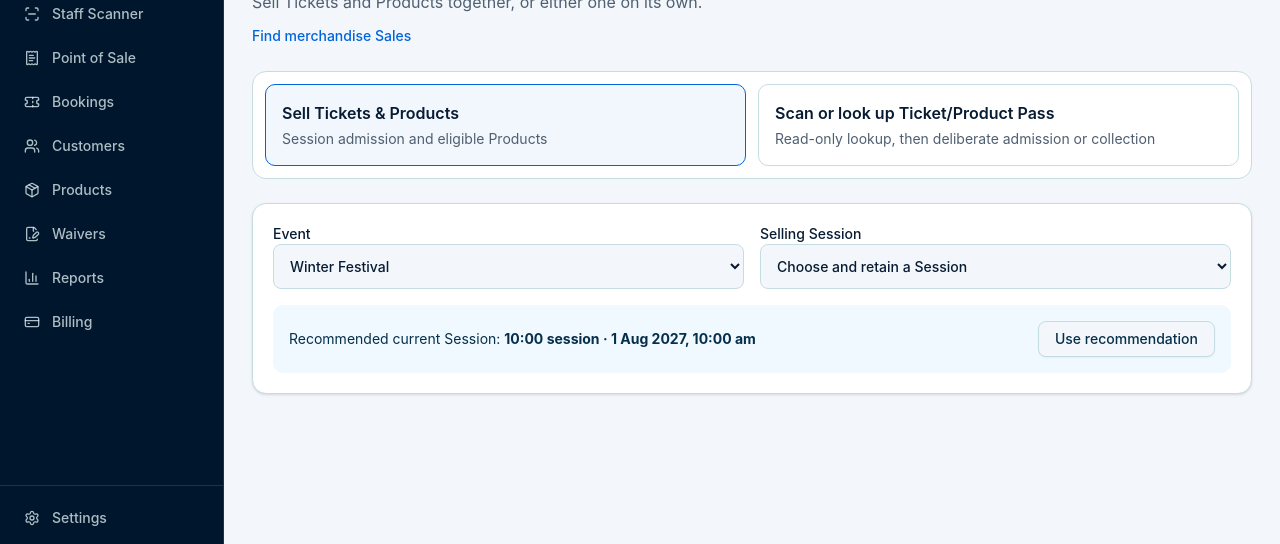
Test case: PosPage › uses a valid configured Ticket Type age instead of a universal age
Click the button "Use recommendation" at [1126, 339], box x1=1038 y1=321 x2=1215 y2=357
(page scrolled)
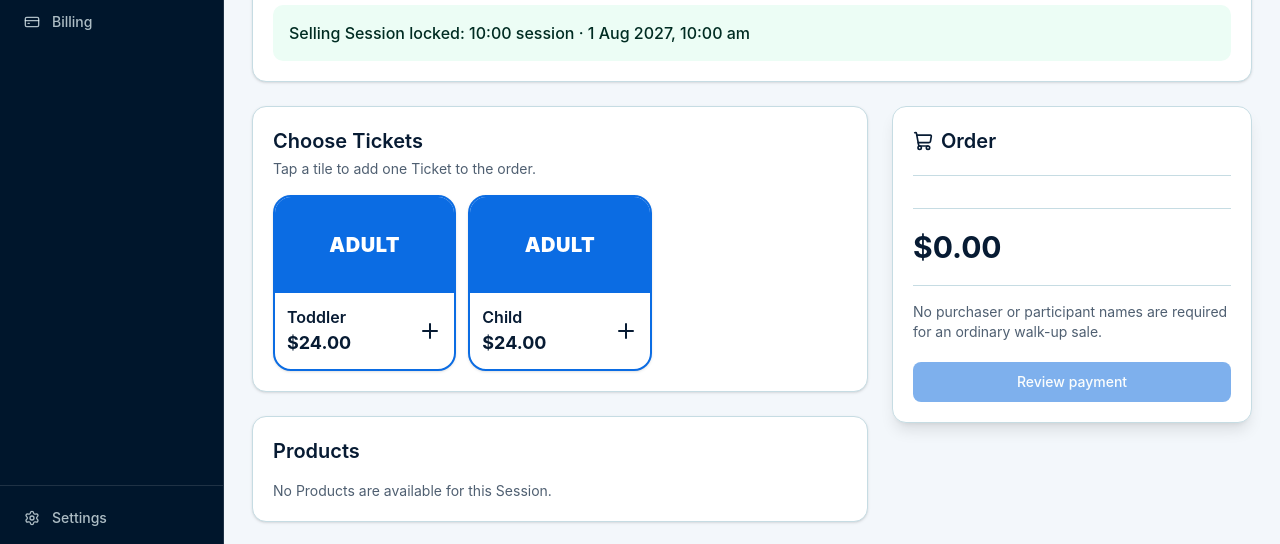
Click the button with aria-label "Add Ticket Toddler" at [365, 283], box x1=273 y1=195 x2=456 y2=371
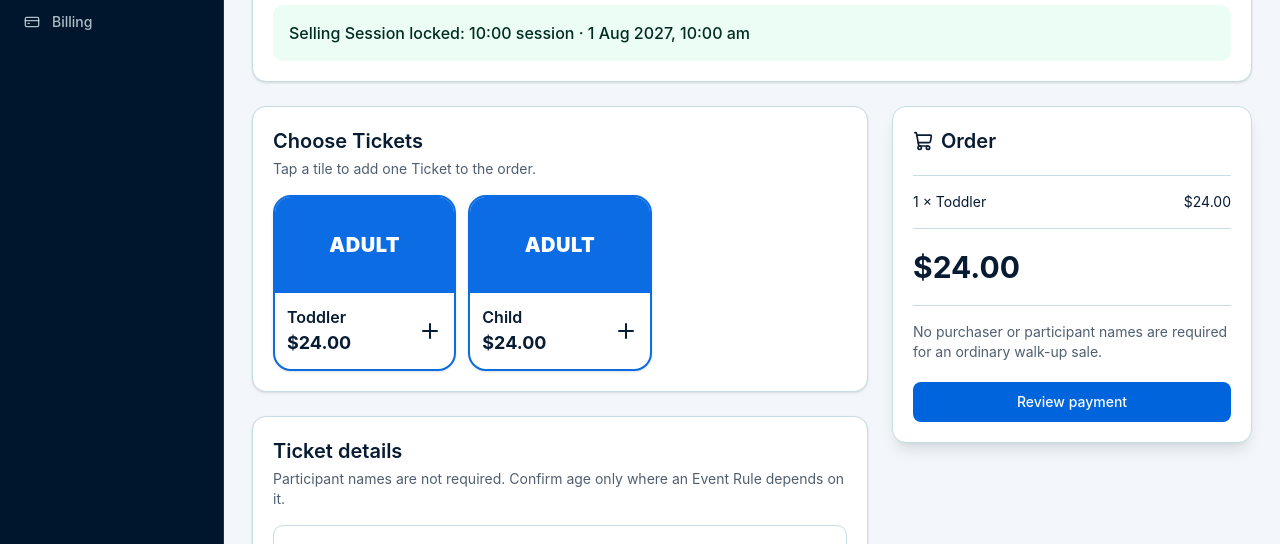
Click the button with aria-label "Add Ticket Child" at [560, 283], box x1=468 y1=195 x2=652 y2=371
(page scrolled)
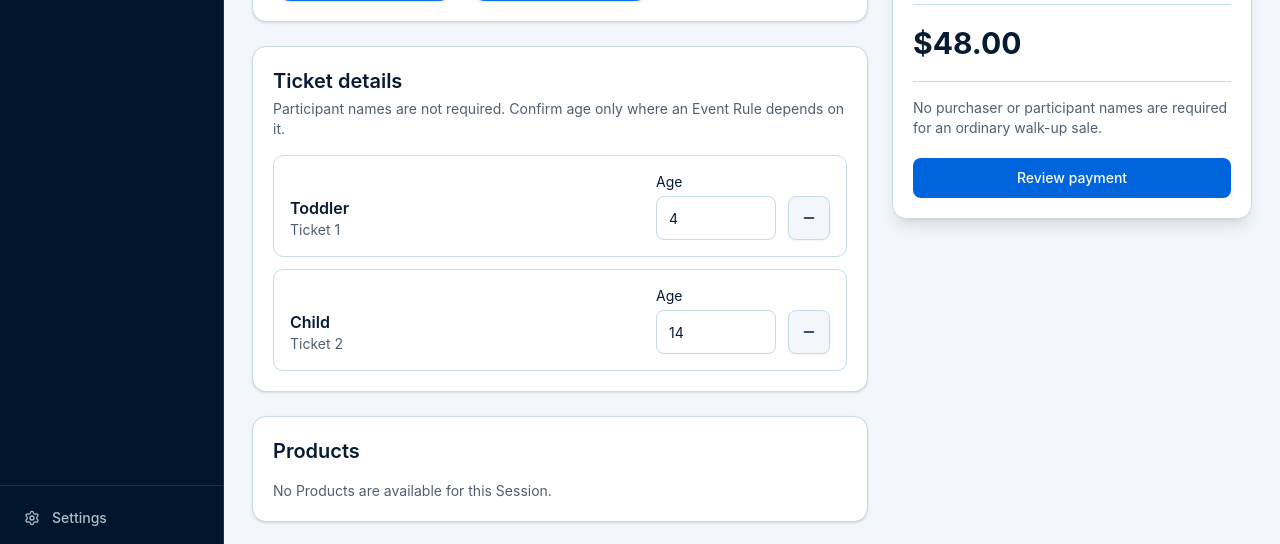
Expected: the 1st number field labelled "Age" holds "4", x1=656 y1=196 x2=776 y2=240
Expected: the 2nd number field labelled "Age" holds "14", x1=656 y1=310 x2=776 y2=354
